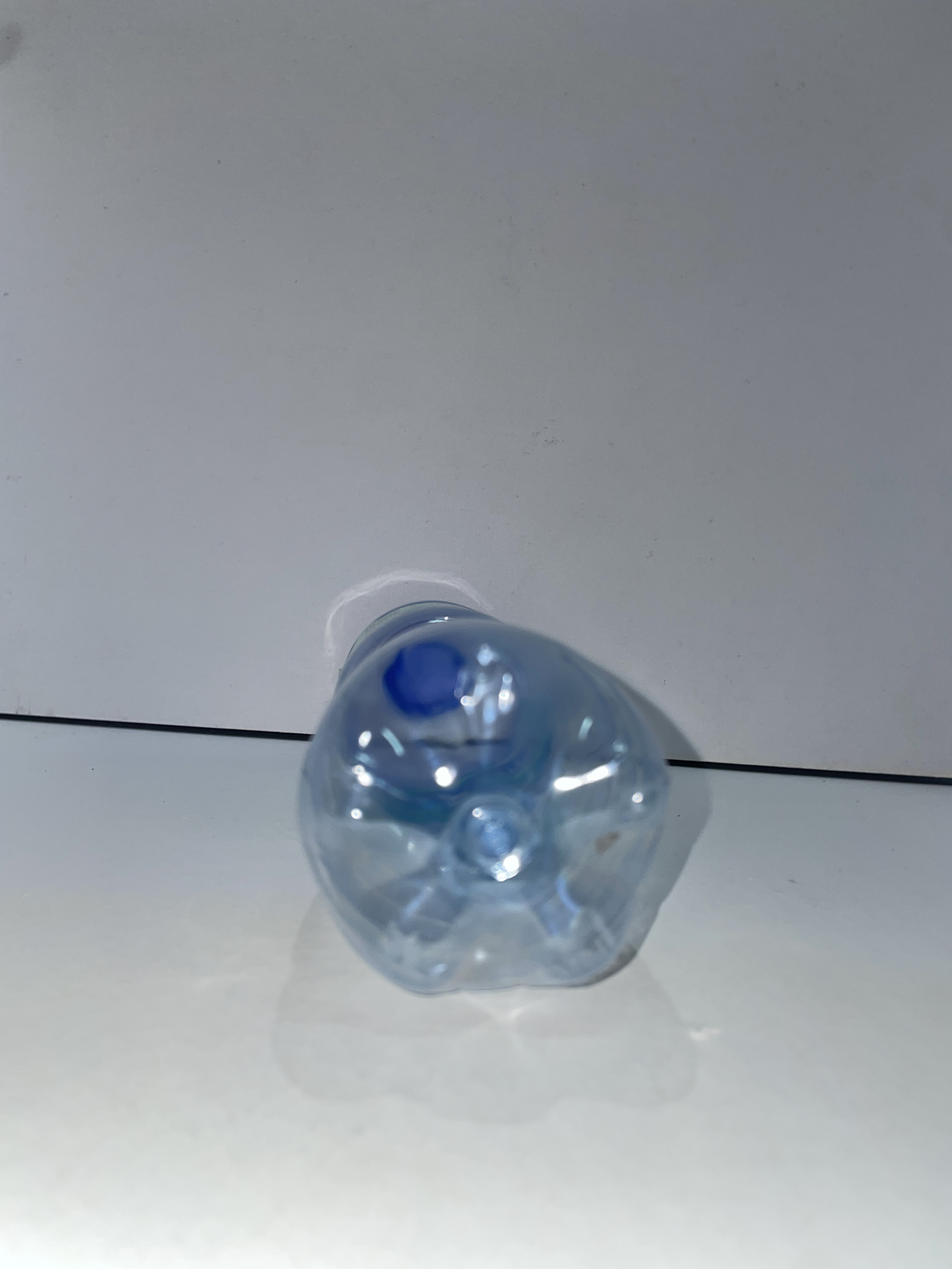wilkins pure 500ml: (300, 602, 669, 995)
